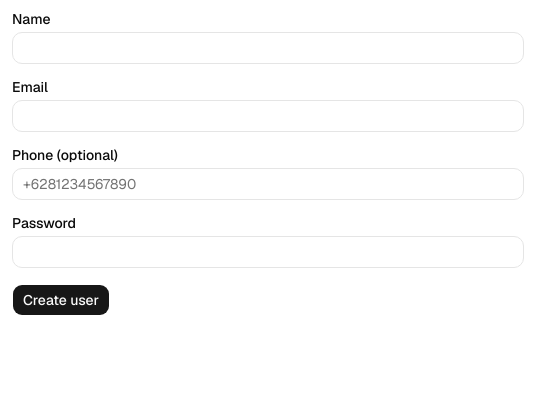
Scenario: CreateUserForm › shows backend field errors next to the fields
Type "Andi" into the field labelled "Name" at (268, 48), box [12,32,524,64]
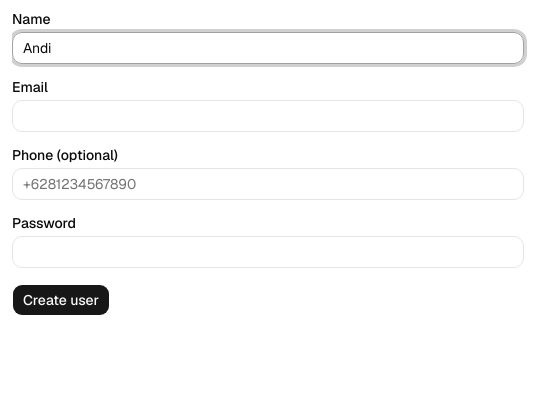
Type "andi@example.com" into the field labelled "Email" at (268, 116), box [12,100,524,132]
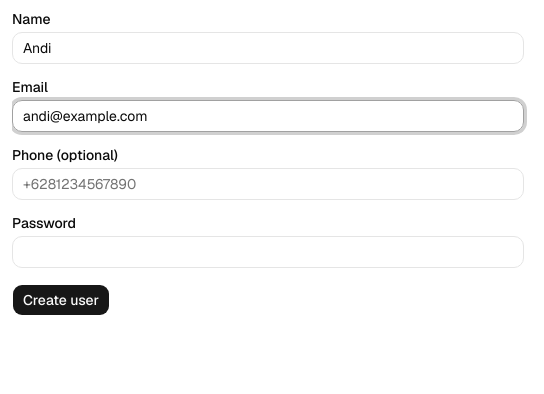
Type "Password123!" into the password field labelled "Password" at (268, 252), box [12,236,524,268]
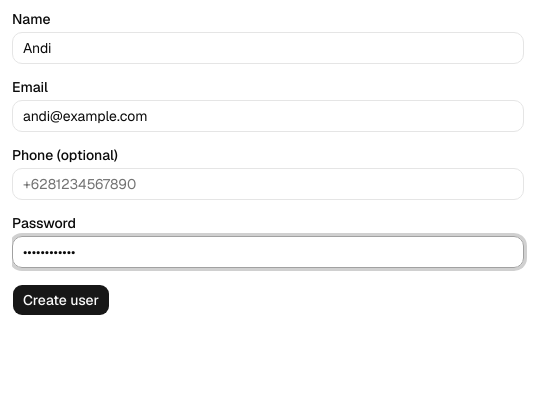
Click the button "Create user" at (61, 300), box [12,284,110,316]
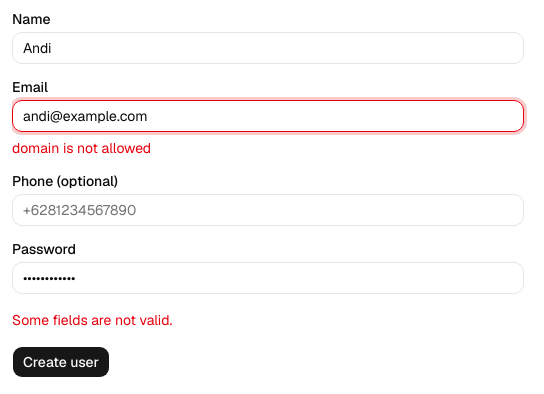
Result: the text "domain is not allowed" is shown at [12,139,151,157]
